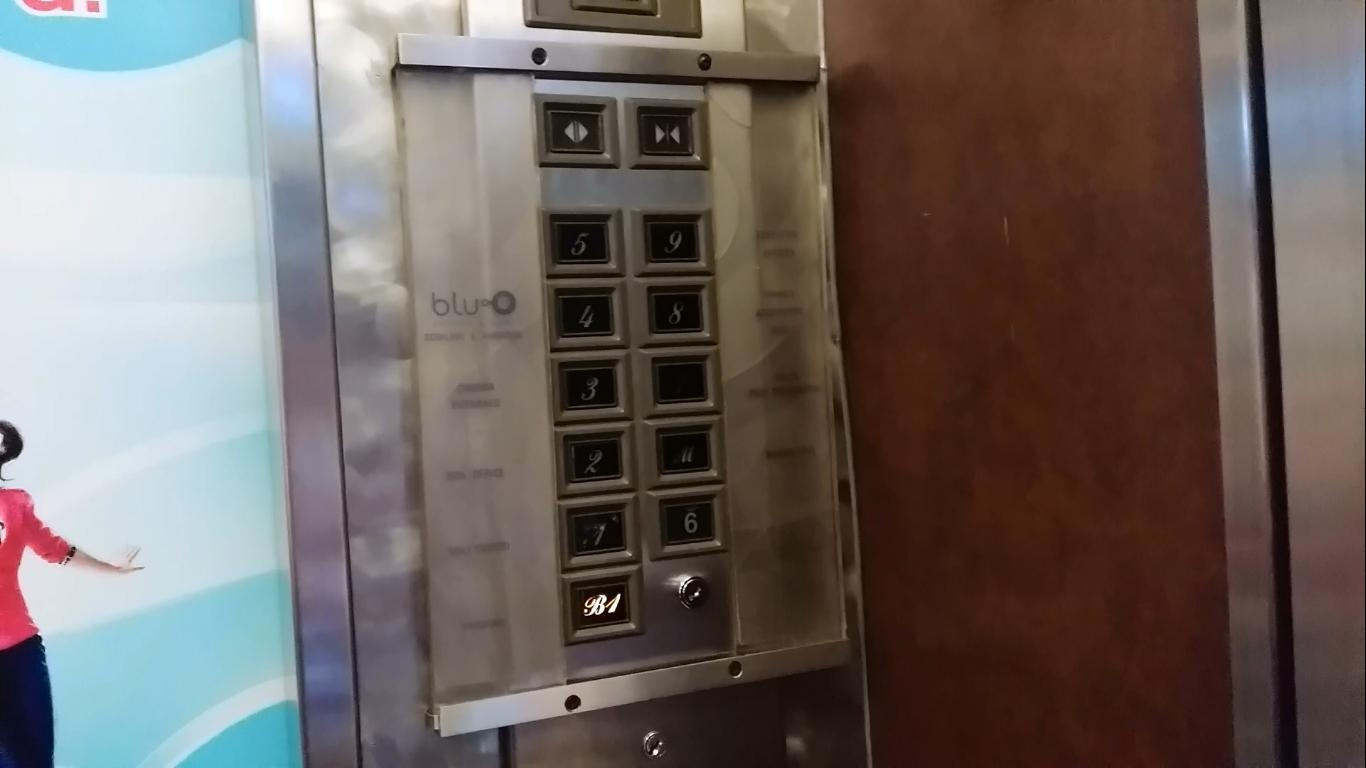1: (552, 493, 640, 573)
2: (551, 421, 640, 501)
3: (545, 350, 633, 428)
4: (542, 278, 629, 354)
5: (536, 206, 628, 281)
6: (637, 485, 733, 559)
8: (627, 276, 721, 347)
9: (624, 202, 720, 276)
B1: (558, 566, 642, 640)
blur: (634, 345, 730, 415), (646, 420, 728, 483)
close: (622, 96, 712, 173)
keyhole: (674, 572, 716, 612), (641, 730, 670, 763)
open: (530, 92, 623, 173)
